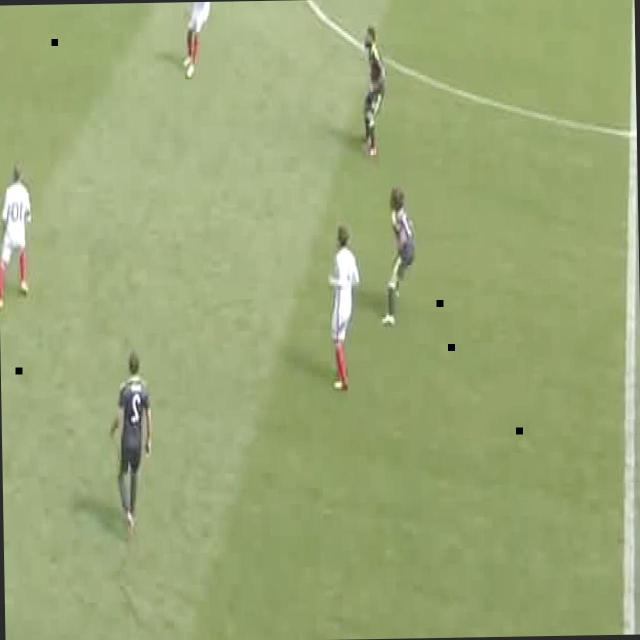player-white: (108, 350, 156, 534), (324, 227, 360, 395), (379, 188, 418, 326), (0, 157, 33, 309), (359, 26, 388, 157), (182, 2, 212, 79)
